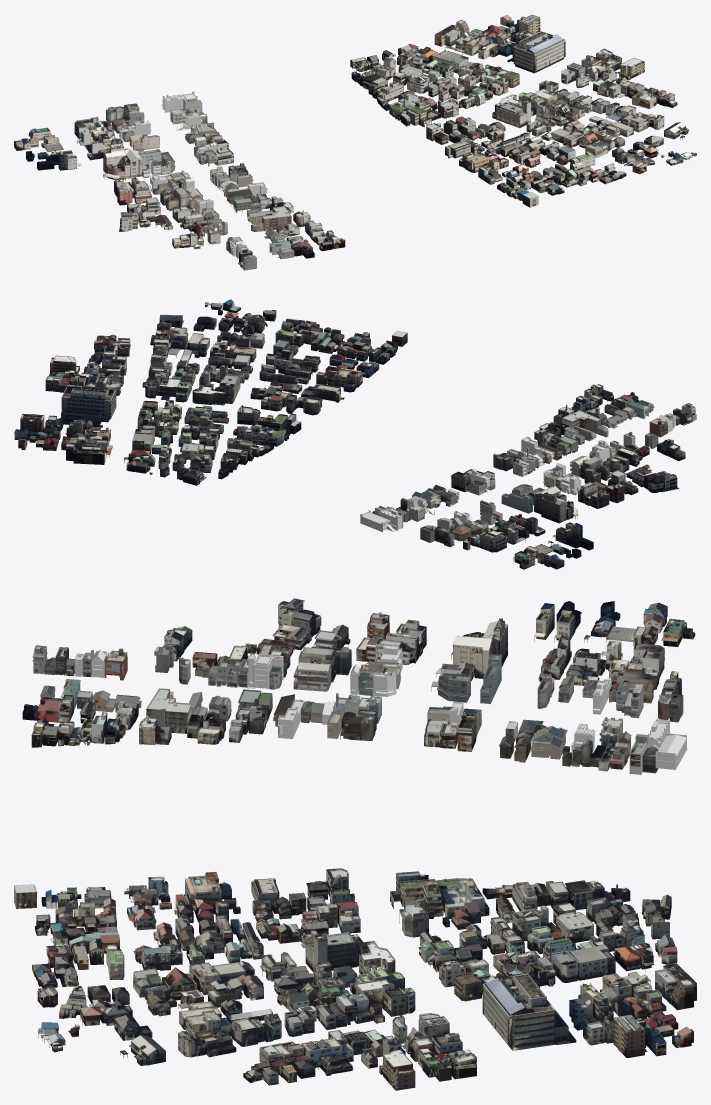
Rendered from lod3-station-4-1-packed.glb.
3 renders of one model, top to bottom at view 1: azimuth 30°, elevation 25°; view 2: azimuth 150°, elevation 25°; view 3: azimuth 270°, elevation 25°, orthographic. The views are drawn at different scales.
Size of the model in its own units: 585 by 27.11 by 356.
Materials: 78 (77 with a texture image).
